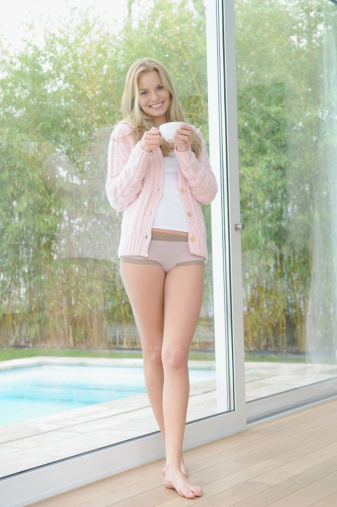em pe: (93, 54, 226, 484)
